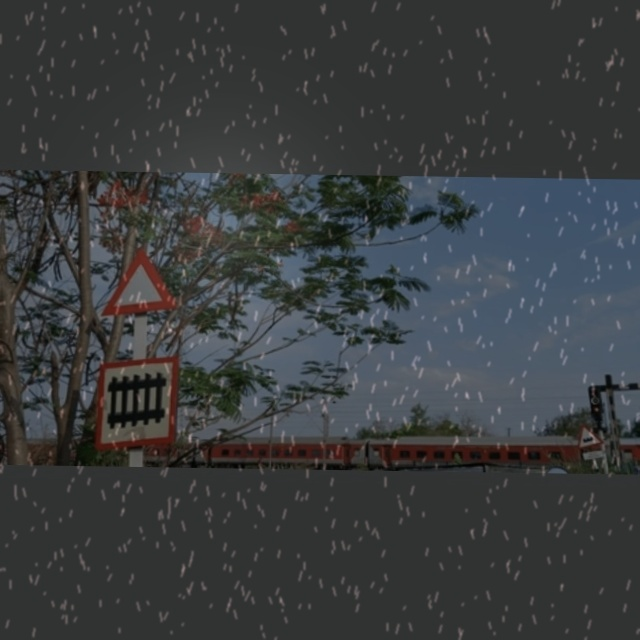Guarded_Level_Crossing: (94, 346, 184, 447)
